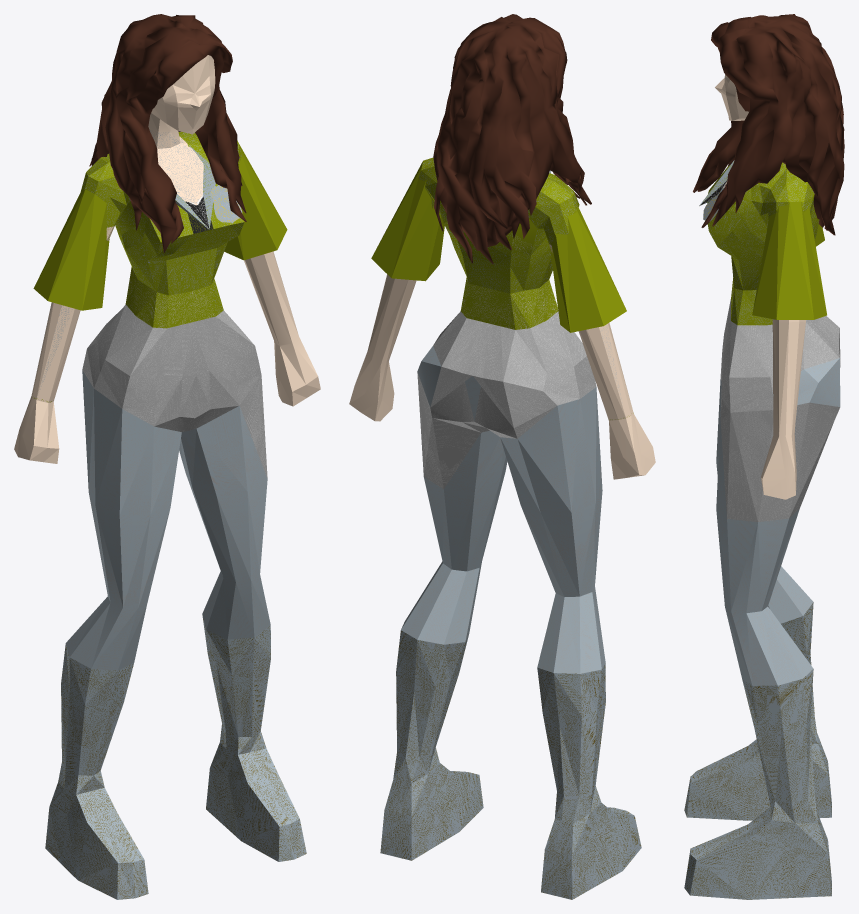
File: park_ranger_2.fbx
3 renders of one model, left to right at view 1: azimuth 30°, elevation 25°; view 2: azimuth 150°, elevation 25°; view 3: azimuth 270°, elevation 25°, orthographic.
Parts seen in each view (by area): view 1: Group1; view 2: Group1; view 3: Group1.
Boxes of the visible parts, x1,y1,x2,y2 form: Group1: (14,14,320,899); Group1: (349,14,655,899); Group1: (684,14,844,899).
Size of the model in its own units: 2.15 by 5.8 by 1.02.
